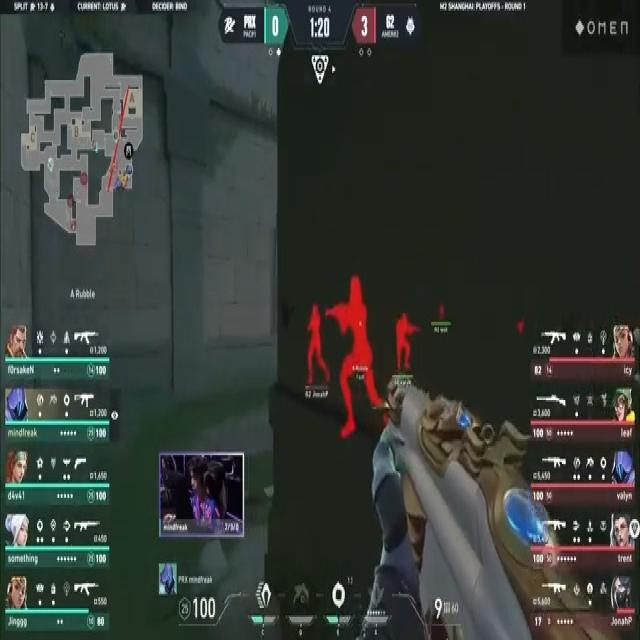enemy behind wall: (326, 267, 394, 455), (304, 298, 327, 394), (392, 311, 418, 379)
